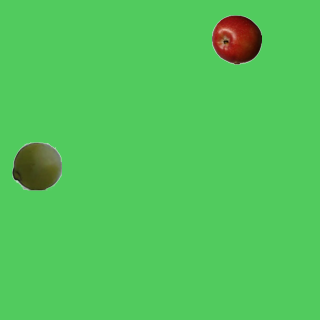Apple Braeburn: (211, 14, 261, 64)
Grape White 4: (11, 140, 61, 190)
